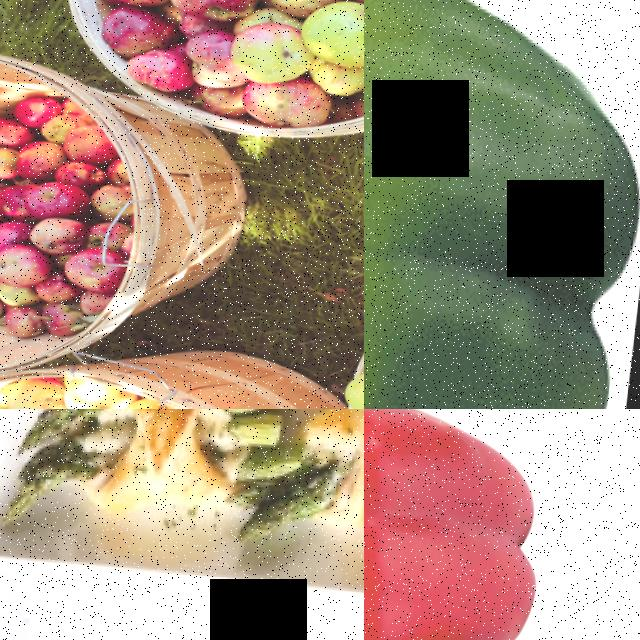apple: (224, 72, 349, 128), (224, 16, 316, 82), (178, 23, 252, 94), (296, 0, 364, 70), (92, 4, 180, 53), (70, 232, 139, 290), (122, 43, 198, 95), (63, 370, 144, 409), (28, 180, 101, 223), (62, 118, 128, 164), (90, 175, 153, 223), (0, 239, 59, 287), (308, 49, 364, 95), (48, 152, 117, 189), (19, 132, 68, 183), (5, 376, 73, 409), (8, 302, 56, 344), (153, 0, 263, 18), (39, 267, 86, 309), (35, 217, 88, 253), (15, 91, 69, 125), (0, 112, 40, 149), (257, 0, 336, 18), (123, 393, 185, 409), (0, 143, 25, 178), (4, 237, 50, 256), (0, 288, 15, 331), (0, 186, 11, 229), (0, 214, 6, 236)
bell pepper: (364, 0, 640, 409), (364, 409, 585, 640)
